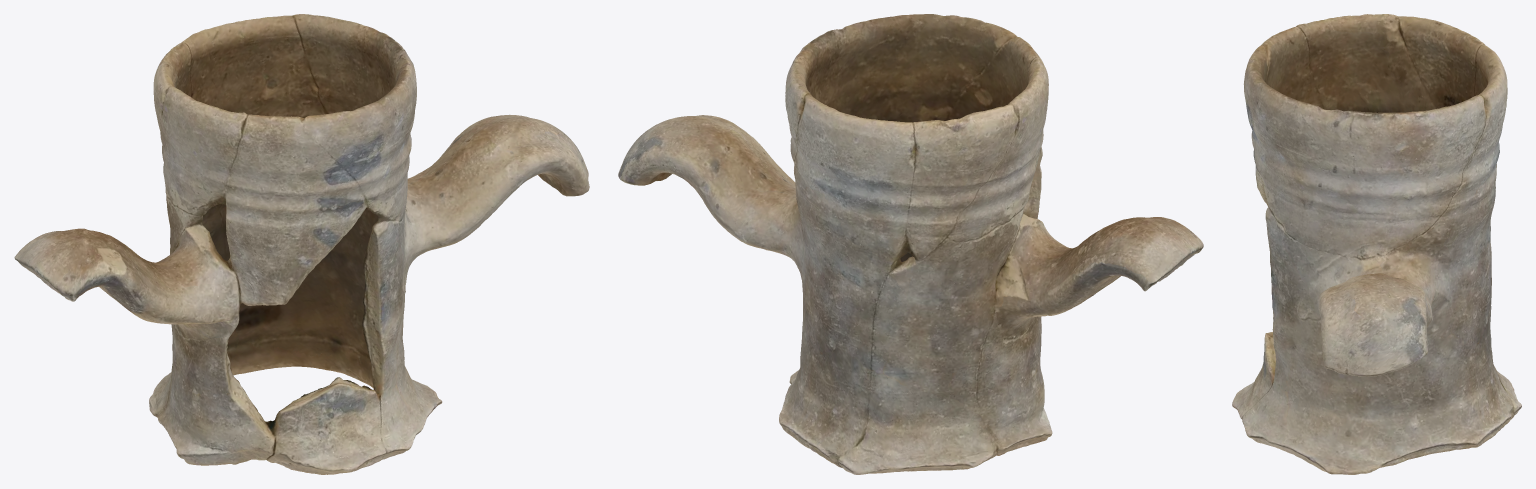
Rendered from preview.glb.
3 views of the same model, side by side, from view 1: azimuth 30°, elevation 25°; view 2: azimuth 150°, elevation 25°; view 3: azimuth 270°, elevation 25° (orthographic).
Visible parts, largest first — view 1: Object_4; view 2: Object_4; view 3: Object_4.
Part boxes in pixels (x1,y1,x2,y2): Object_4: [14, 14, 589, 474]; Object_4: [618, 14, 1203, 474]; Object_4: [1232, 14, 1521, 474].
Bounding box in the file's own units: 2.9 × 1.79 × 1.32.
Materials: 1 (1 with a texture image).
